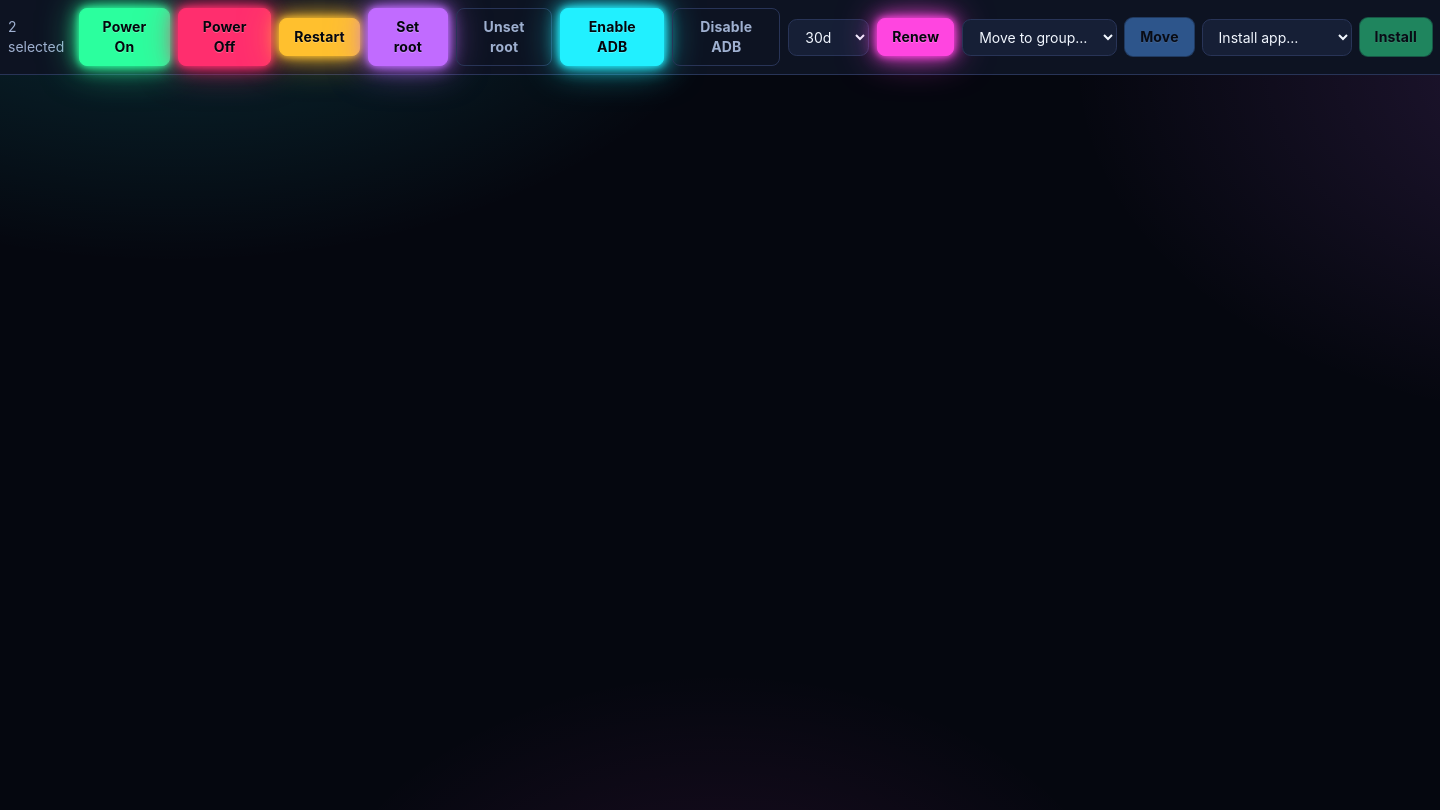
Test: BatchActionBar move-to-group › moves selected phones to the chosen group with {id,image_ids}
Later steps or results of the test are not shown.
Select "US Warmup" in the dropdown named "move to group" at coordinates (1040, 37), box [962,18,1117,56]
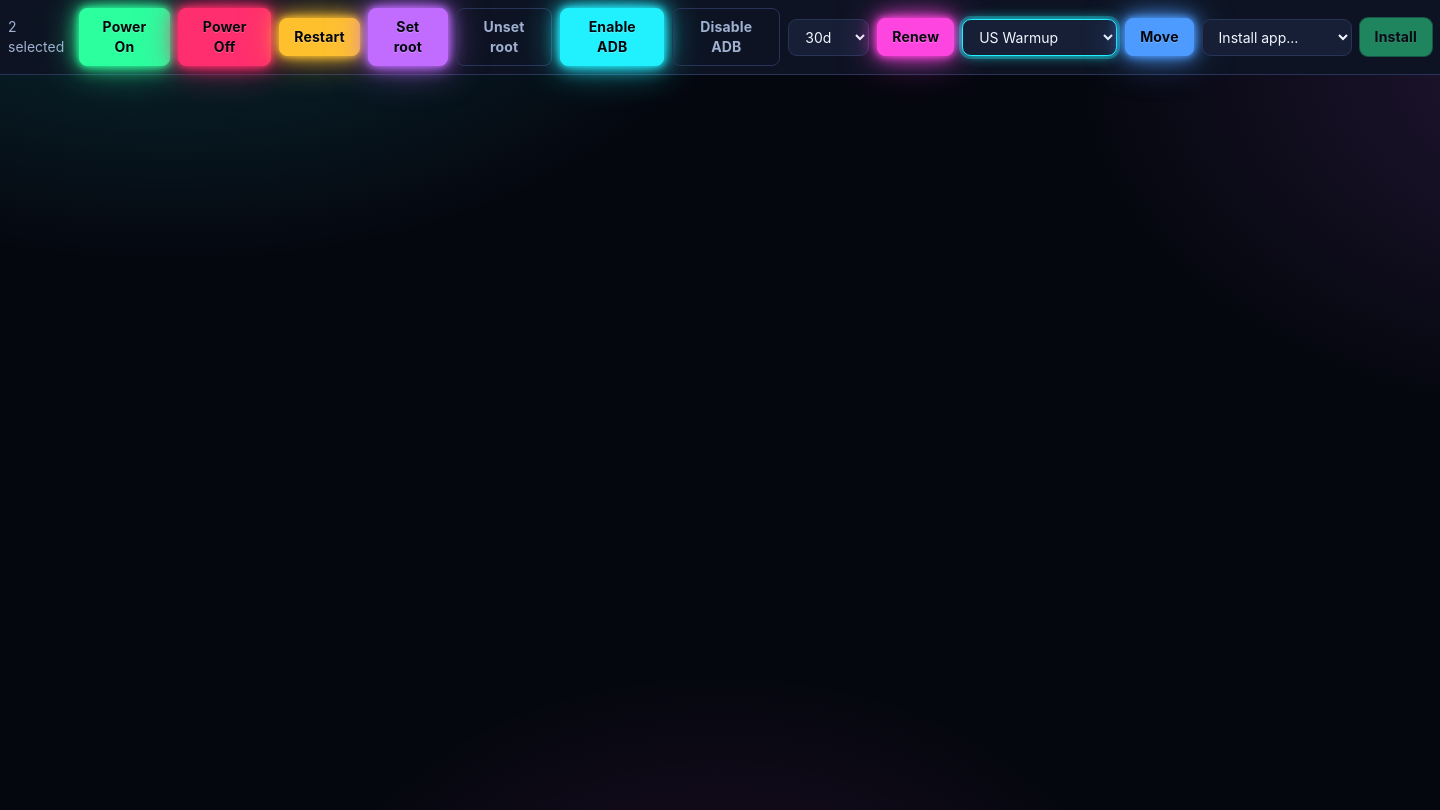
Expected: the button "Move" is enabled, [1125,18,1194,56]
